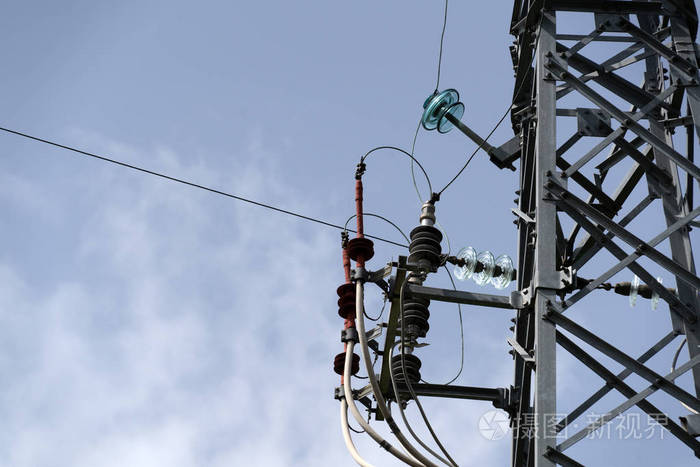insulator: (455, 246, 515, 288), (423, 86, 465, 134), (627, 276, 666, 311)
